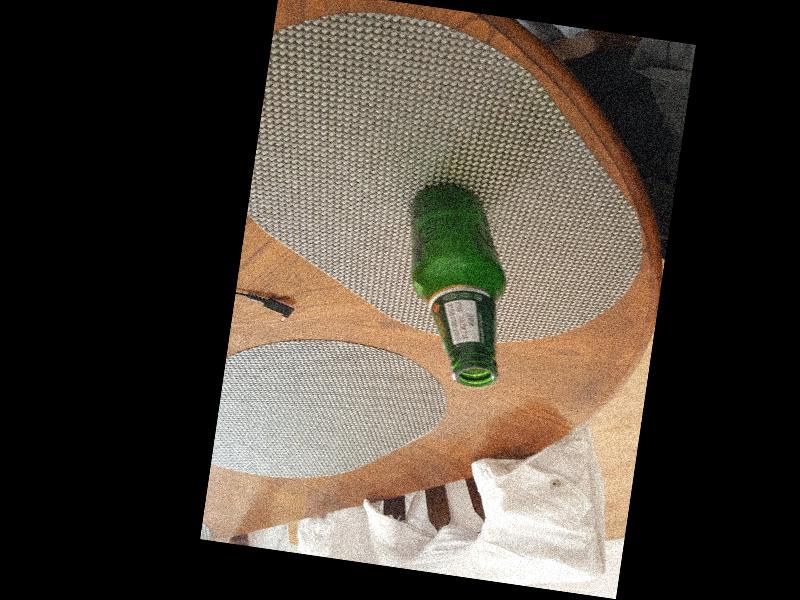Beer: (385, 179, 516, 386)
